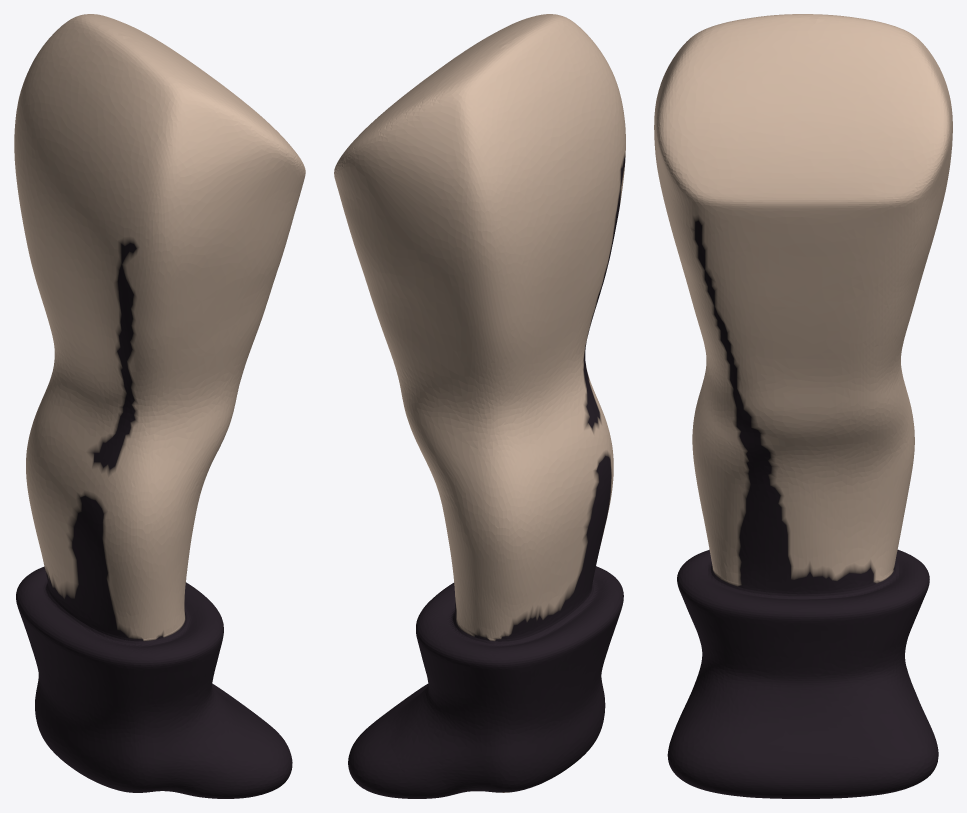
Rendered from leg_L.glb.
3 renders of one model, left to right at view 1: azimuth 30°, elevation 25°; view 2: azimuth 150°, elevation 25°; view 3: azimuth 270°, elevation 25°, orthographic.
Visible parts, largest first — view 1: geometry_0; view 2: geometry_0; view 3: geometry_0.
Boxes of the visible parts, x1,y1,x2,y2 form: geometry_0: (14, 14, 305, 798); geometry_0: (334, 14, 625, 798); geometry_0: (654, 14, 952, 798).
Size of the model in its own units: 0.1862 by 0.6046 by 0.2249.
